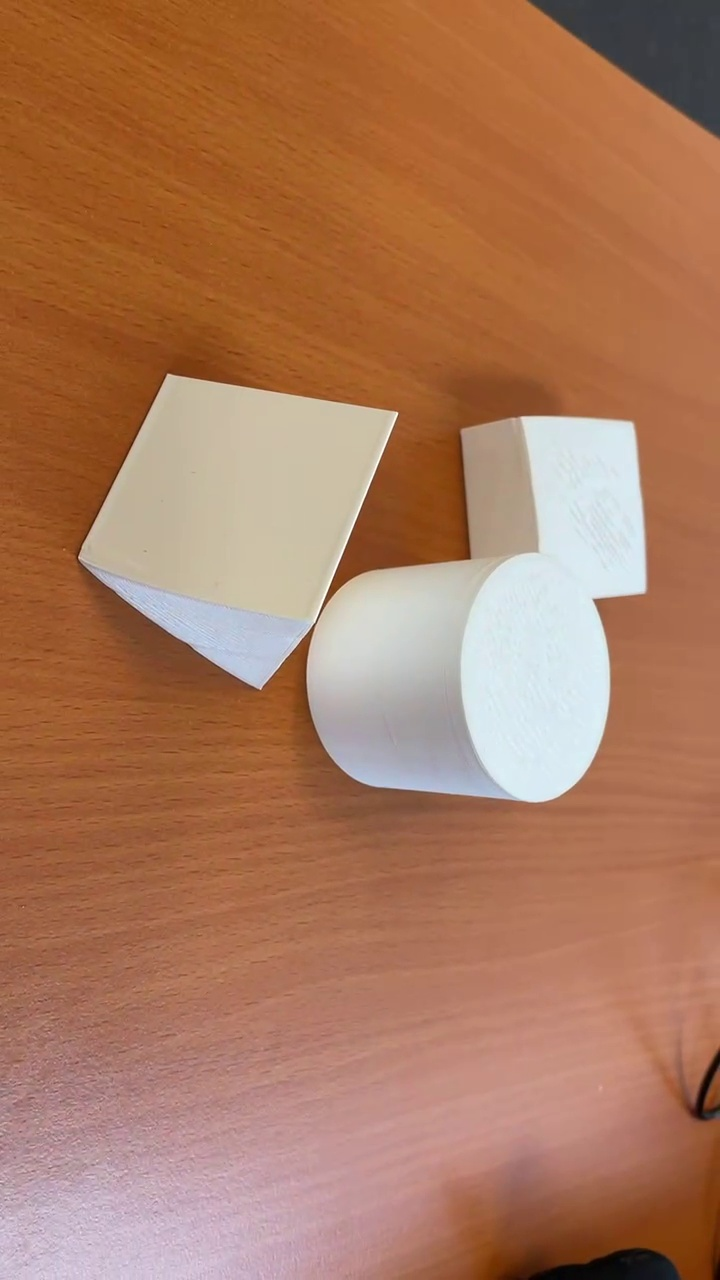Cube_short: (456, 407, 654, 604)
Cylinder: (304, 550, 613, 805)
Triangle: (67, 371, 400, 689)
